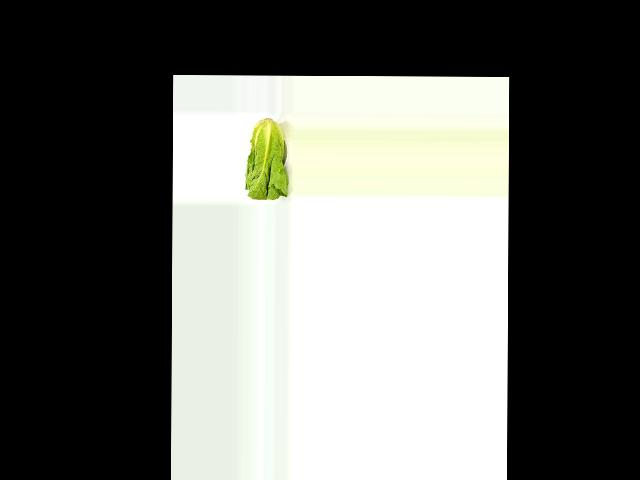lettuce: (243, 117, 289, 200)
